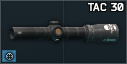Burris FullField TAC30 1-4x24 riflescope: (0, 0, 127, 64)
